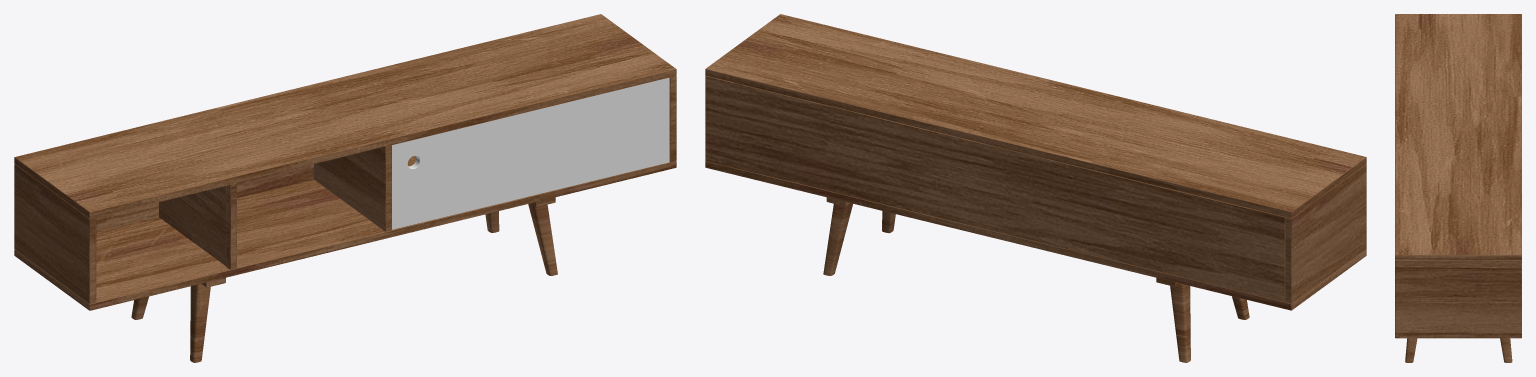
The model's file is cabinet.gltf.
The picture shows the model from 3 angles, left to right: view 1: azimuth 30°, elevation 25°; view 2: azimuth 150°, elevation 25°; view 3: azimuth 270°, elevation 25°; orthographic projection. The views are drawn at different scales.
Visible parts, largest first — view 1: Mesh_0; view 2: Mesh_0; view 3: Mesh_0.
Part boxes in pixels (x1=…): Mesh_0: x1=14, y1=14, x2=676, y2=362; Mesh_0: x1=705, y1=14, x2=1366, y2=362; Mesh_0: x1=1395, y1=14, x2=1521, y2=362.
Size of the model in its own units: 280 by 83.16 by 62.19.
1 material, 1 textured.
